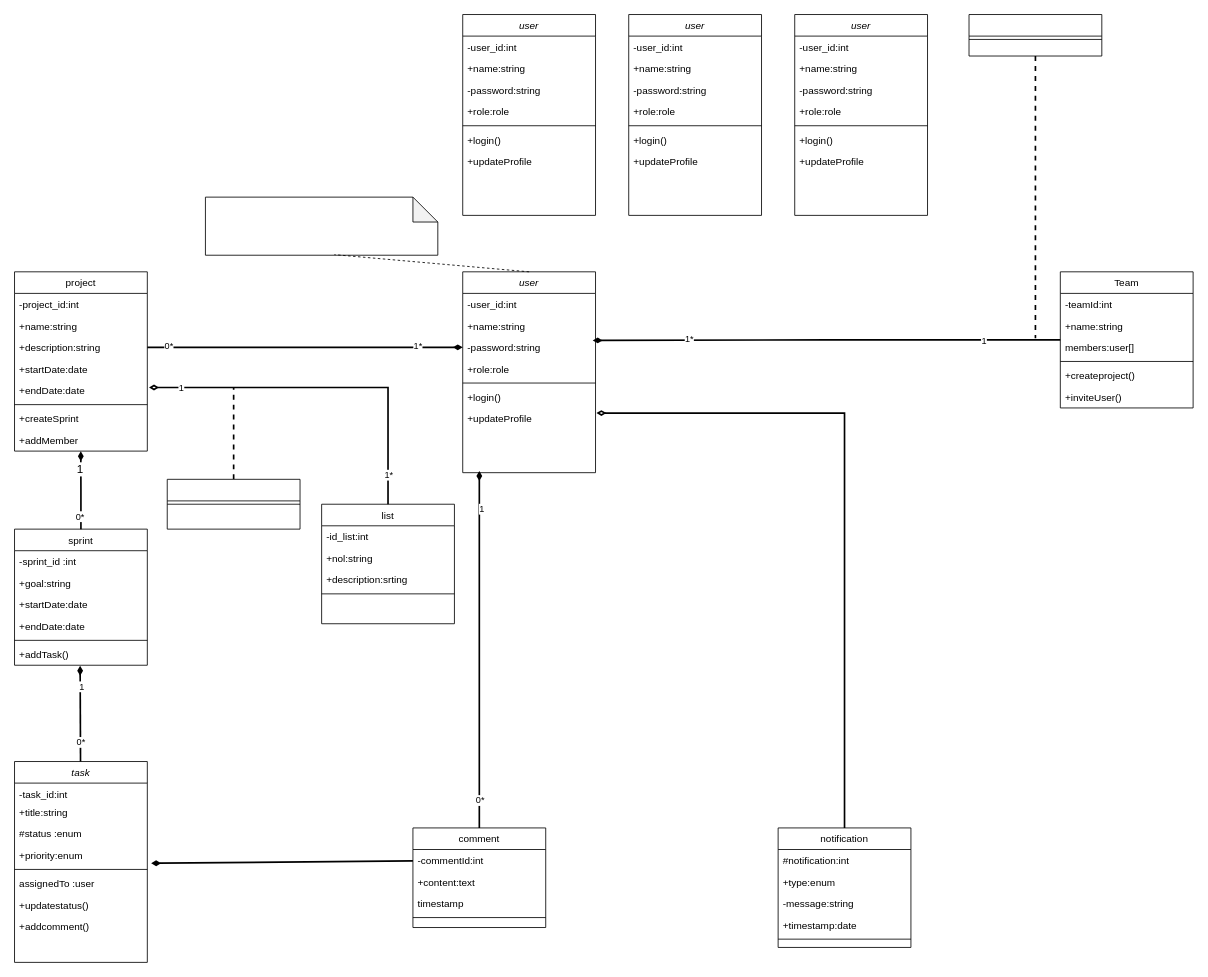
Some shapes in this 1208 by 977 pixel diagram are drawn without their labels. The box of each missing label's shape, as (x1, y1, x2, y2) in pixels:
-> planification -individuel -scrum(team): (205, 196, 438, 255)
prj list: (166, 478, 300, 529)
userteam: (968, 14, 1102, 56)
